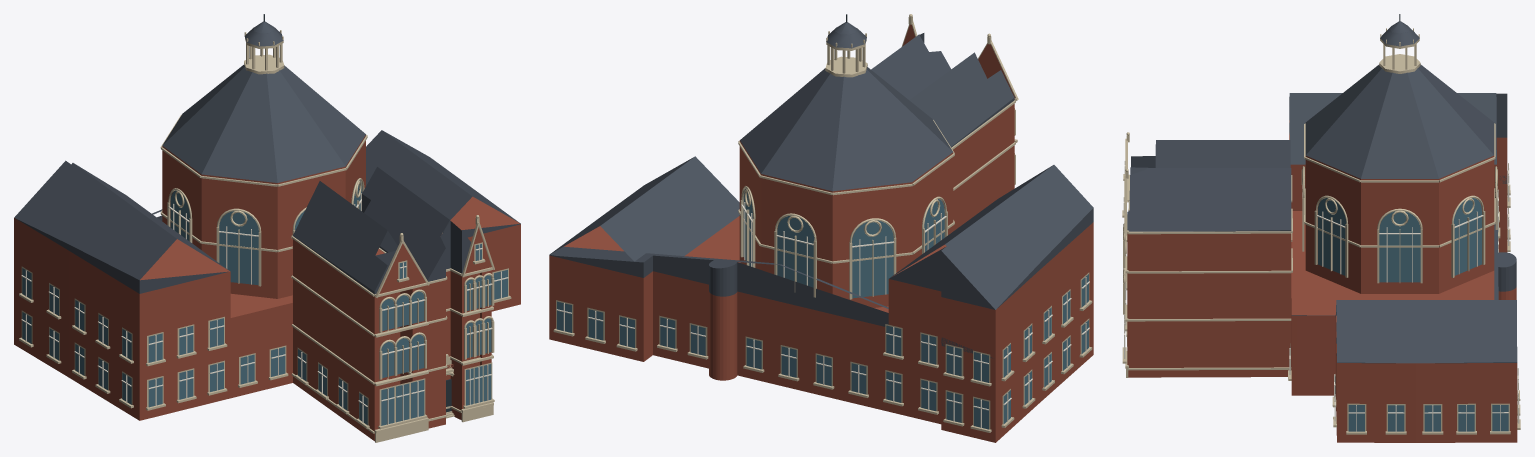
Rendered from amsterdam-dungeon.glb.
The picture shows the model from 3 angles, left to right: view 1: azimuth 30°, elevation 25°; view 2: azimuth 150°, elevation 25°; view 3: azimuth 270°, elevation 25°; orthographic projection. The views are drawn at different scales.
Visible parts, largest first — view 1: amsterdam-dungeon; view 2: amsterdam-dungeon; view 3: amsterdam-dungeon.
Part boxes in pixels (x1,y1,x2,y2): amsterdam-dungeon: (14, 14, 520, 442); amsterdam-dungeon: (549, 14, 1093, 442); amsterdam-dungeon: (1122, 14, 1520, 442).
Size of the model in its own units: 40.66 by 29.29 by 33.1.
